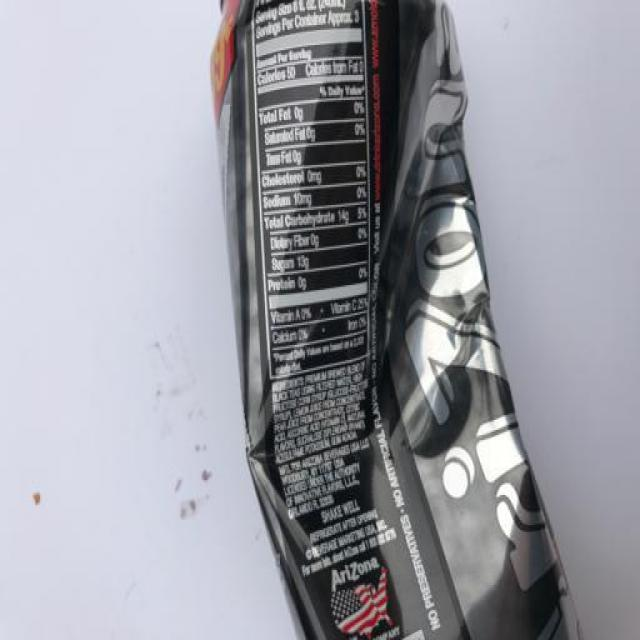metel: (188, 4, 599, 640)
